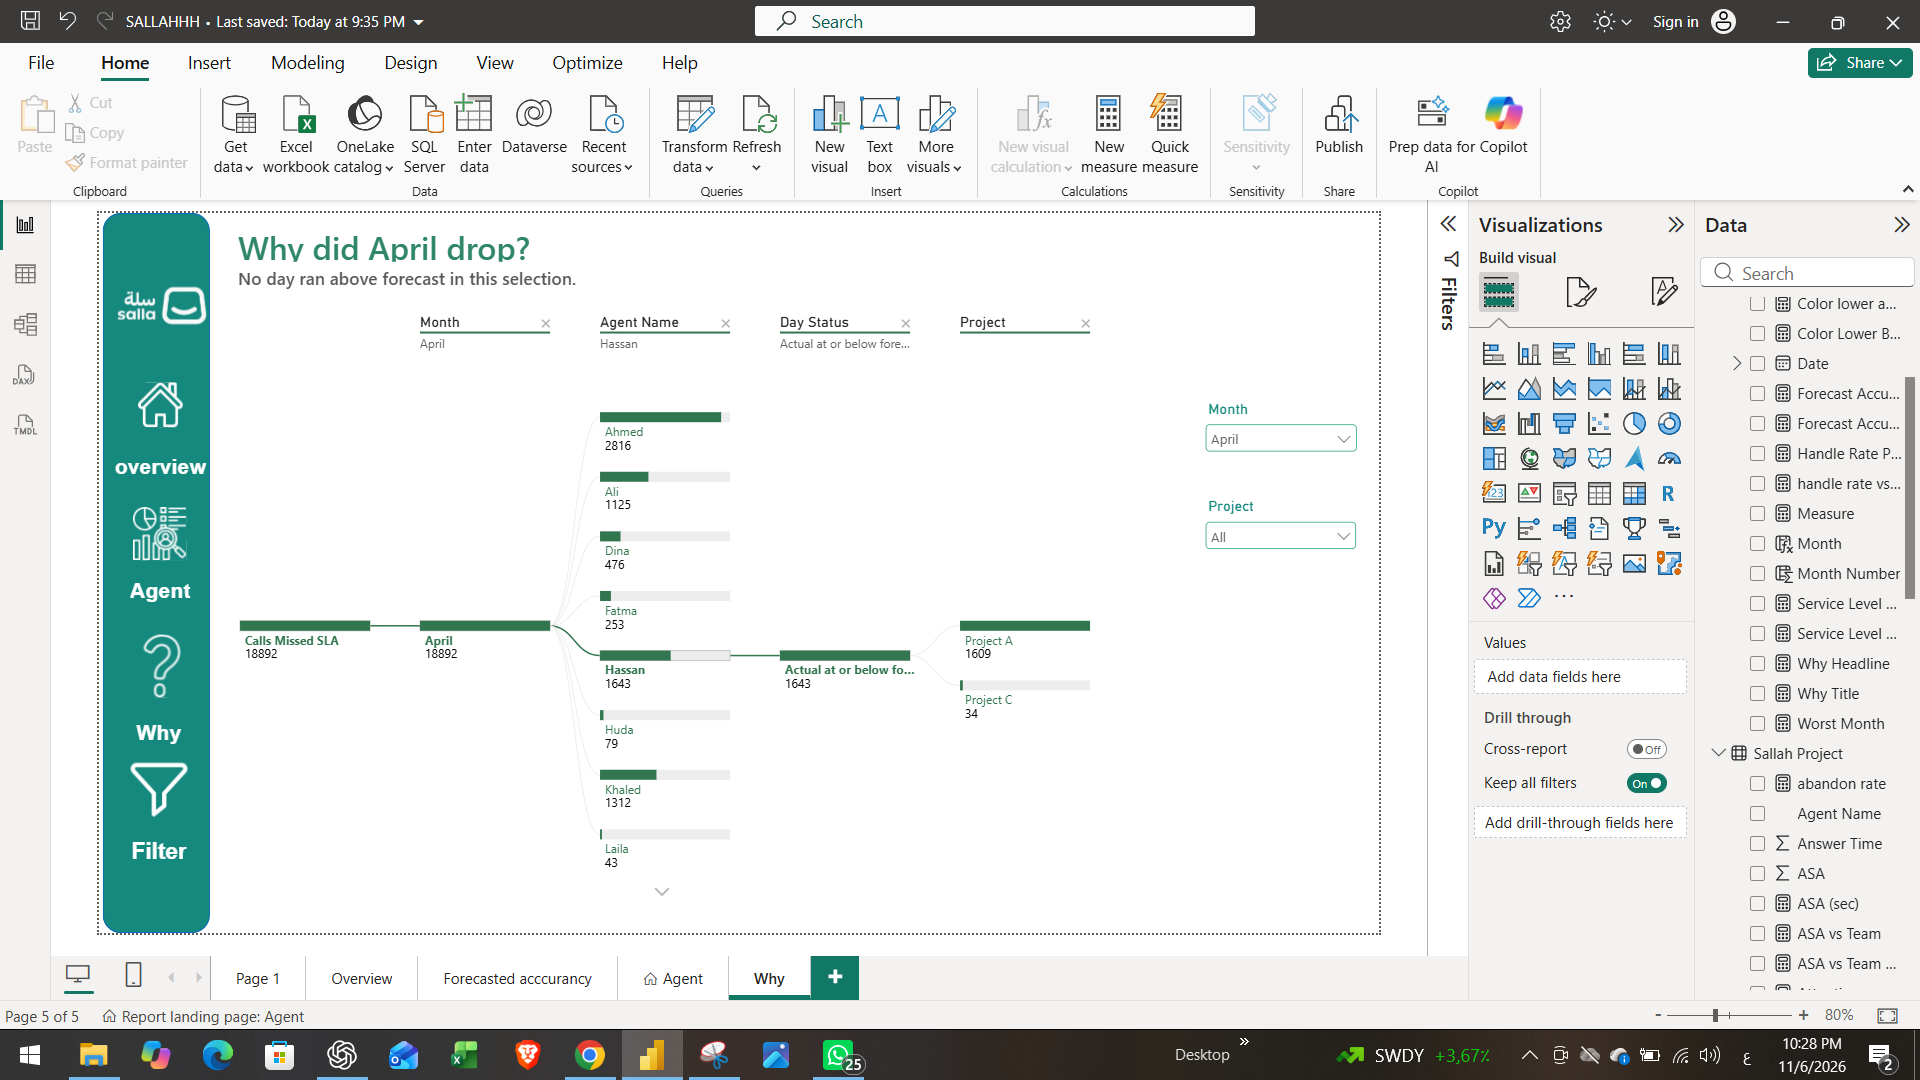

This screenshot's page, from the dashboard's own definition file:
{"tool":"powerbi","page":{"name":"Why","canvas":[1280,720],"ordinal":4},"visuals":[{"type":"textbox","box":[111.2,7.5,628.8,86.2],"z":0,"group":"g1"},{"type":"slicer","fields":{"Values":["Calendar.Month"]},"box":[1096.2,182.5,171.3,71.2],"z":1000},{"type":"shape","box":[4.3,0,107.1,720],"z":2000},{"type":"slicer","fields":{"Values":["Sallah Project.Project"]},"box":[1096.2,280,171.1,71],"z":3000},{"type":"group","id":"g1","title":"Group 2","box":[111.2,7.5,628.8,86.2],"z":9000},{"type":"actionButton","box":[34.8,146.1,52.9,91.8],"z":11000},{"type":"actionButton","box":[27.8,417.4,90.4,71],"z":12000},{"type":"actionButton","box":[22.3,537,96,75.1],"z":13000},{"type":"actionButton","box":[30.6,289.4,65.4,61.2],"z":14000},{"type":"actionButton","box":[11.1,229.6,100.2,48.7],"z":15000},{"type":"actionButton","box":[11.1,353.4,100.2,48.7],"z":16000},{"type":"actionButton","box":[10,495.7,100,48.6],"z":17000},{"type":"actionButton","box":[0.3,22.3,132.7,92.9],"z":19000},{"type":"actionButton","box":[9.7,617.7,100.2,40.3],"z":20000},{"type":"decompositionTreeVisual","fields":{"Analyze":["Sallah Project.Calls Missed SLA"],"ExplainBy":["Calendar.Month","Sallah Project.Agent Name","Sallah Project.Day Status","Sallah Project.Project"]},"box":[111.2,83.8,973.8,636.2],"z":21000},{"type":"cardVisual","fields":{"Data":["Calendar.Why Title"]},"box":[110,0,590,66.2],"z":23000},{"type":"cardVisual","fields":{"Data":["Calendar.Why Headline"]},"box":[110,33.8,1170,60],"z":24000}]}

Visuals, with their boxes on the page's 1280x720 design canvas (x1, y1, x2, y2). These are canvas units, not pixel positions in the 1920x1080 screenshot, which may show the page scaled, cropped or inside an application window:
textbox: {"x1": 111, "y1": 8, "x2": 740, "y2": 94}
slicer - Calendar.Month: {"x1": 1096, "y1": 182, "x2": 1268, "y2": 254}
shape: {"x1": 4, "y1": 0, "x2": 111, "y2": 720}
slicer - Sallah Project.Project: {"x1": 1096, "y1": 280, "x2": 1267, "y2": 351}
"Group 2" group: {"x1": 111, "y1": 8, "x2": 740, "y2": 94}
actionButton: {"x1": 35, "y1": 146, "x2": 88, "y2": 238}
actionButton: {"x1": 28, "y1": 417, "x2": 118, "y2": 488}
actionButton: {"x1": 22, "y1": 537, "x2": 118, "y2": 612}
actionButton: {"x1": 31, "y1": 289, "x2": 96, "y2": 351}
actionButton: {"x1": 11, "y1": 230, "x2": 111, "y2": 278}
actionButton: {"x1": 11, "y1": 353, "x2": 111, "y2": 402}
actionButton: {"x1": 10, "y1": 496, "x2": 110, "y2": 544}
actionButton: {"x1": 0, "y1": 22, "x2": 133, "y2": 115}
actionButton: {"x1": 10, "y1": 618, "x2": 110, "y2": 658}
decompositionTreeVisual - Sallah Project.Calls Missed SLA x Calendar.Month: {"x1": 111, "y1": 84, "x2": 1085, "y2": 720}
cardVisual - Calendar.Why Title: {"x1": 110, "y1": 0, "x2": 700, "y2": 66}
cardVisual - Calendar.Why Headline: {"x1": 110, "y1": 34, "x2": 1280, "y2": 94}
